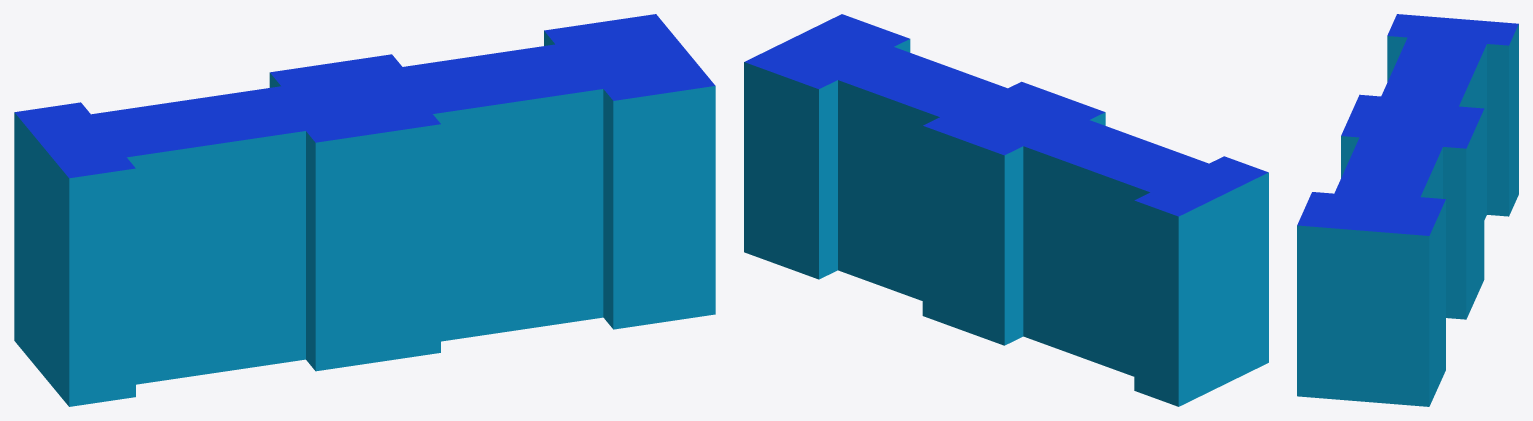
File: map_21.osm_buildings.004.gltf
3 renders of one model, left to right at view 1: azimuth 30°, elevation 25°; view 2: azimuth 150°, elevation 25°; view 3: azimuth 270°, elevation 25°, orthographic. The views are drawn at different scales.
Visible parts, largest first — view 1: map_21.osm_buildings.004; view 2: map_21.osm_buildings.004; view 3: map_21.osm_buildings.004.
Part boxes in pixels (left/top/right/bottom): map_21.osm_buildings.004: left=14, top=14, right=715, bottom=406; map_21.osm_buildings.004: left=744, top=14, right=1268, bottom=406; map_21.osm_buildings.004: left=1297, top=14, right=1518, bottom=406.
Size of the model in its own units: 46.42 by 16.67 by 19.59.
